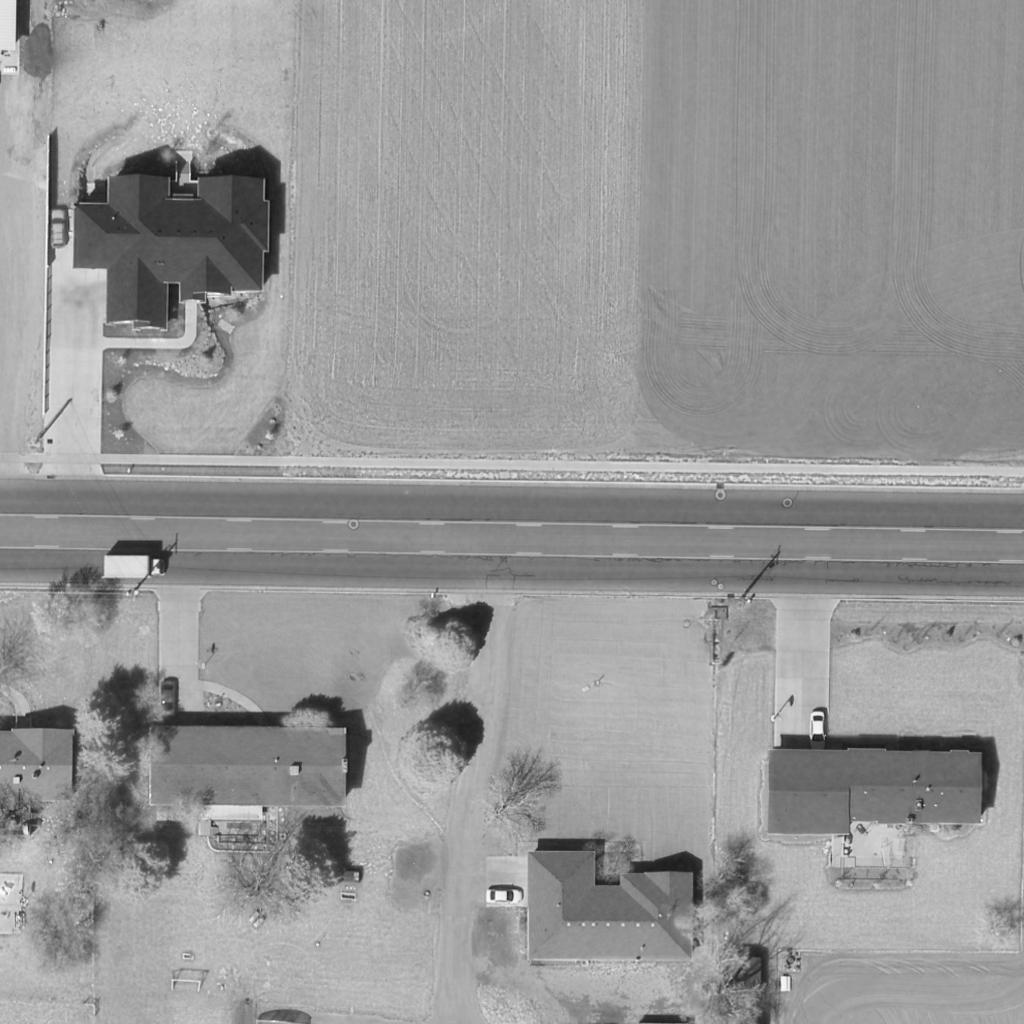vehicle: (103, 556, 167, 578), (49, 208, 69, 250), (485, 887, 525, 905), (810, 709, 828, 747), (161, 680, 177, 720)
